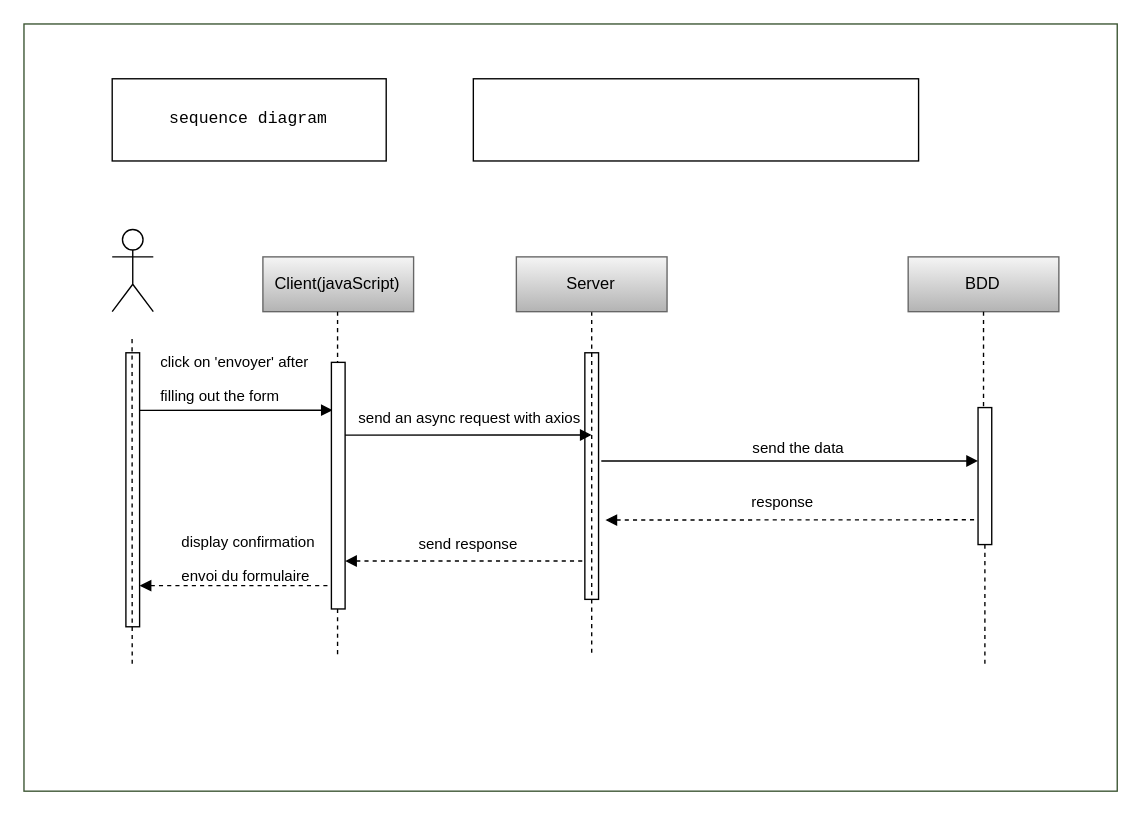
This 1141x815 diagram has some shape labels left out. Each missing label, with the centre of its shape:
"contact the garage with form in vehicle detail page" goes at (695,119).
"Visitor" goes at (132,270).
